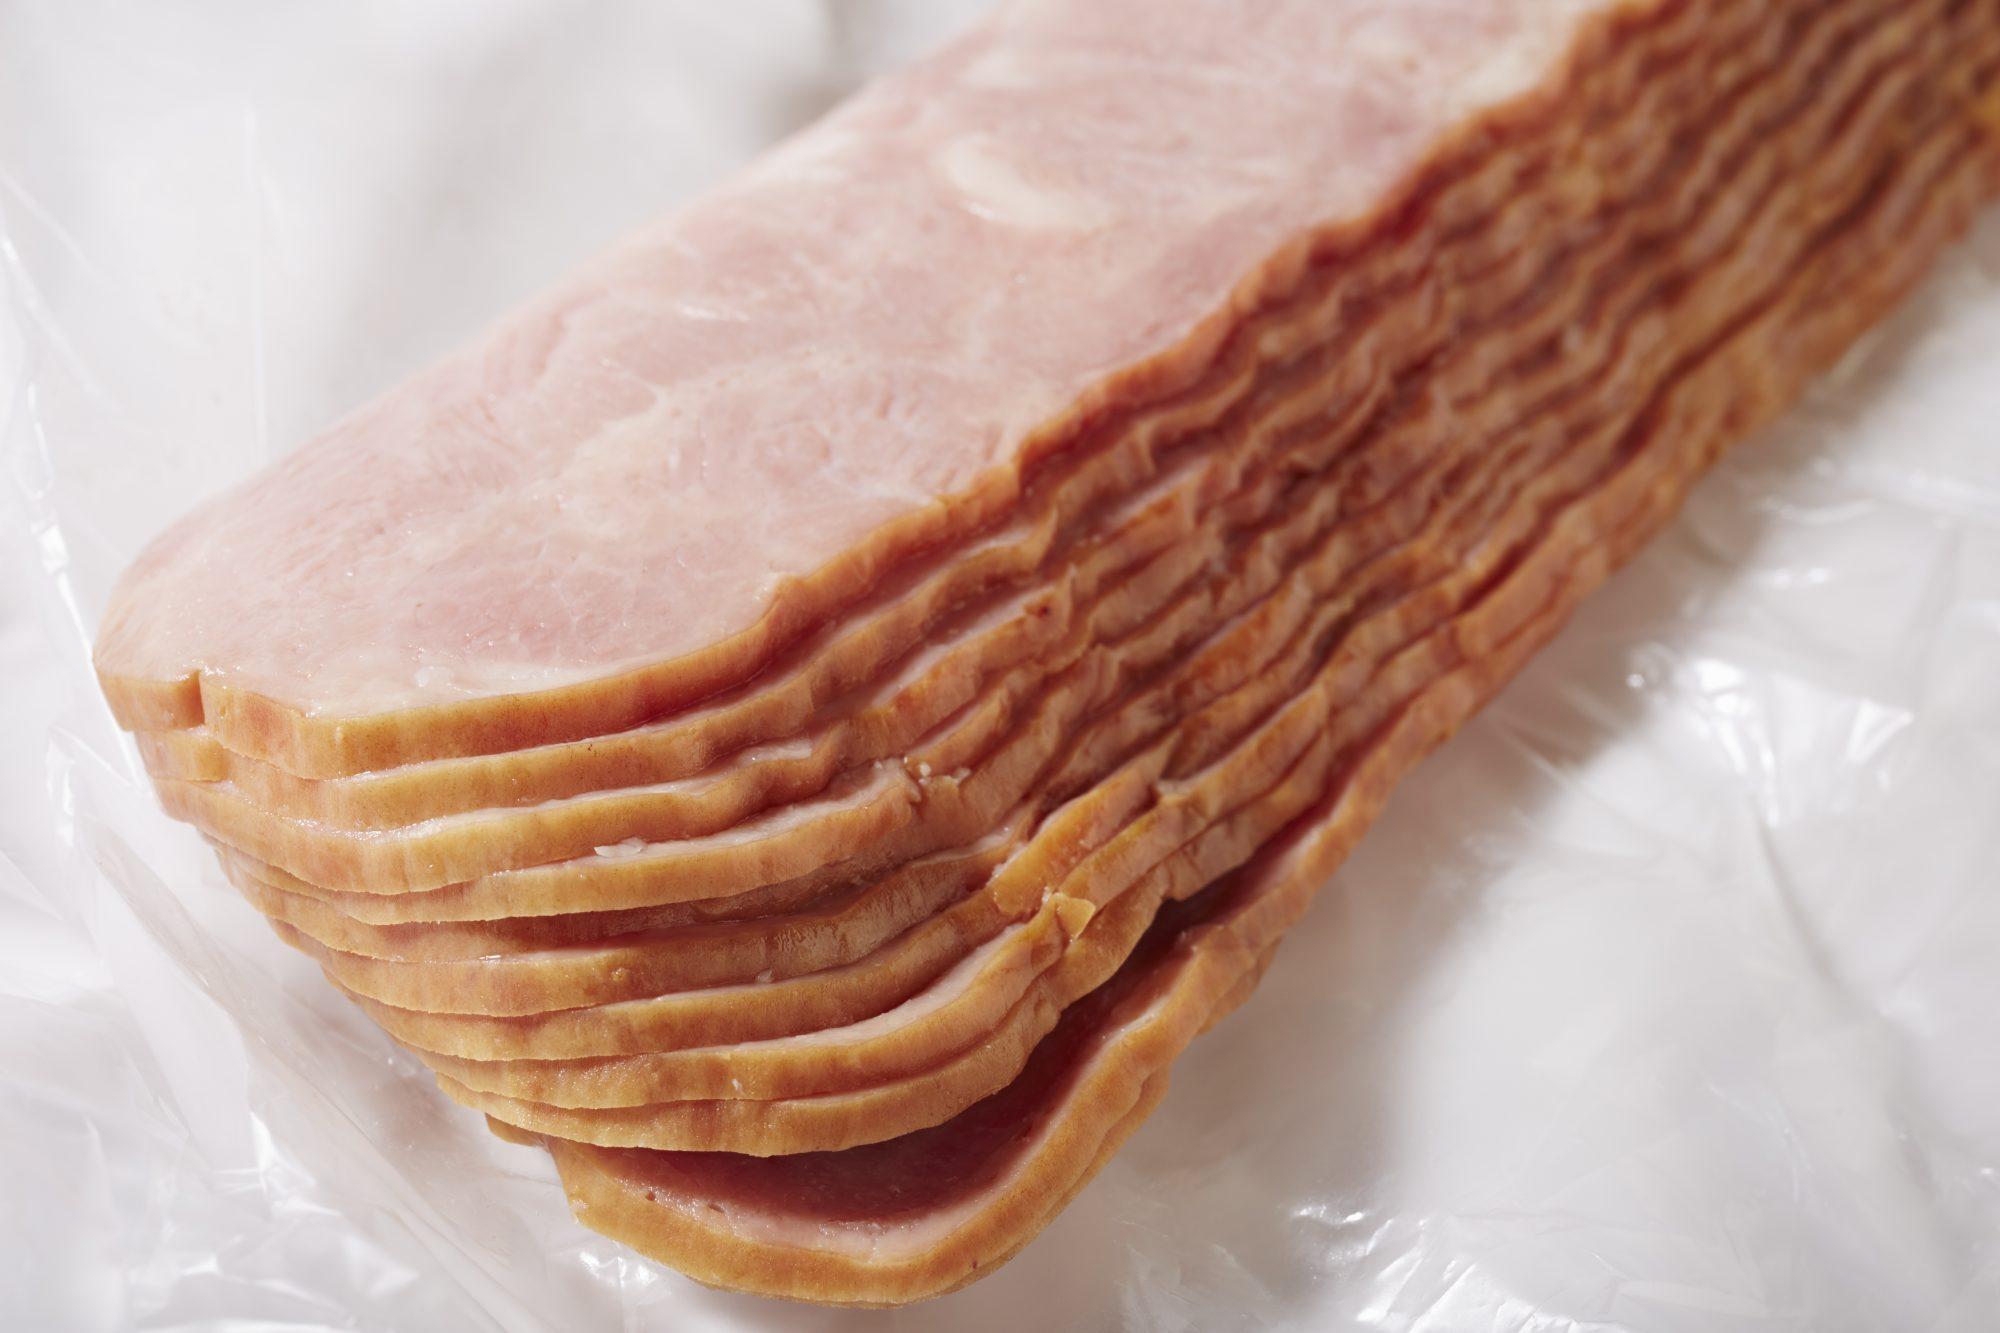bacon: (210, 1, 1813, 1323)
